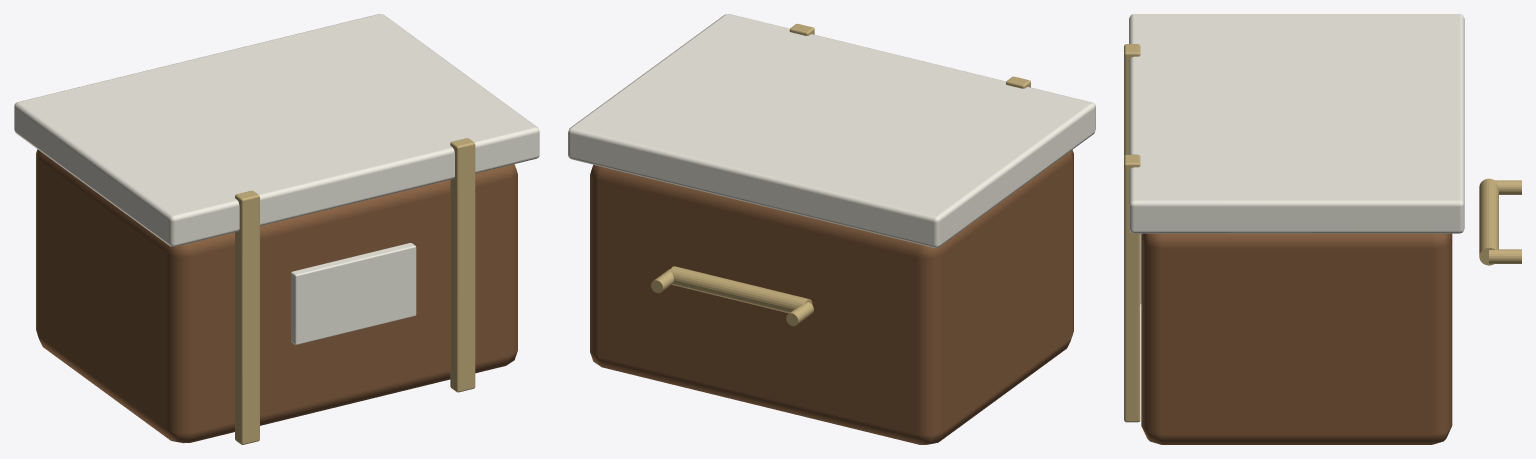
File: city-courthouse-and-records-office-city-courthouse-and-6b6b16ec__30980.glb
3 renders of one model, left to right at view 1: azimuth 30°, elevation 25°; view 2: azimuth 150°, elevation 25°; view 3: azimuth 270°, elevation 25°, orthographic. The views are drawn at different scales.
Parts seen in each view (by area): view 1: city-courthouse-and-records-office-sealed-exhibit-box; view 2: city-courthouse-and-records-office-sealed-exhibit-box; view 3: city-courthouse-and-records-office-sealed-exhibit-box.
Boxes of the visible parts, <box> form: city-courthouse-and-records-office-sealed-exhibit-box: <box>14,14,539,444</box>; city-courthouse-and-records-office-sealed-exhibit-box: <box>568,14,1095,444</box>; city-courthouse-and-records-office-sealed-exhibit-box: <box>1124,14,1521,444</box>.
Size of the model in its own units: 0.55 by 0.35 by 0.486.
